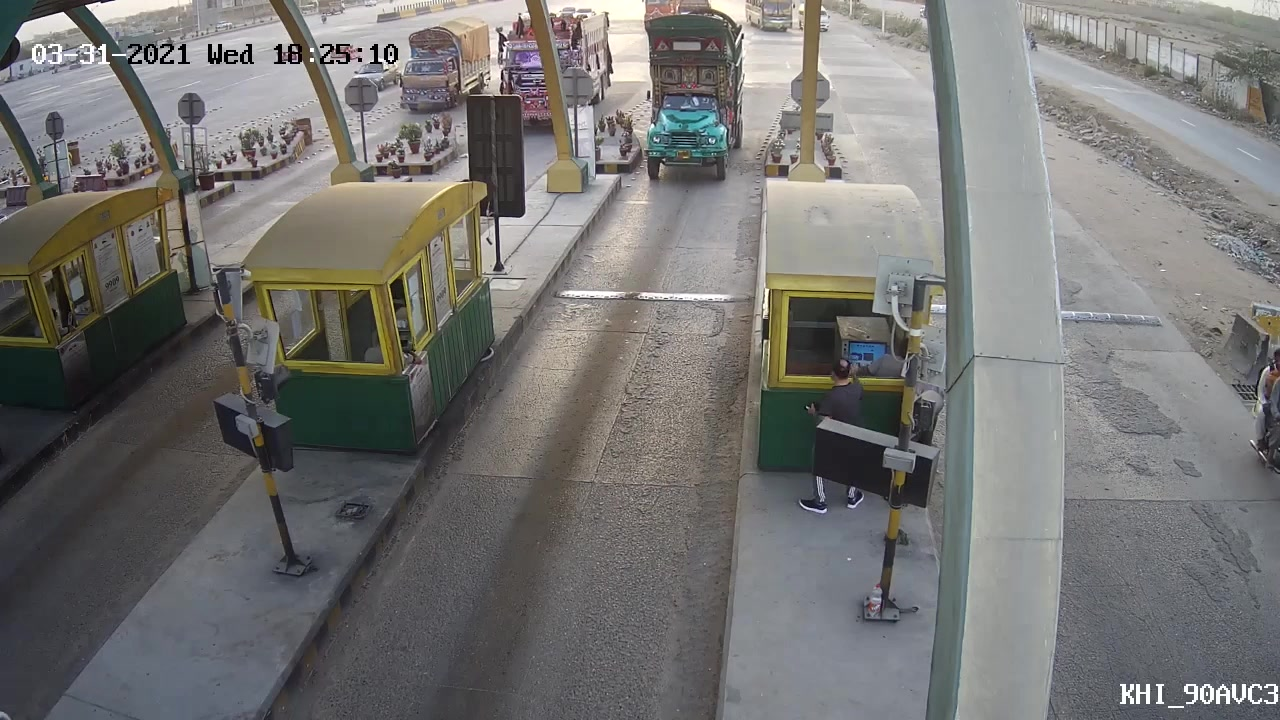F5: (639, 4, 748, 188)
